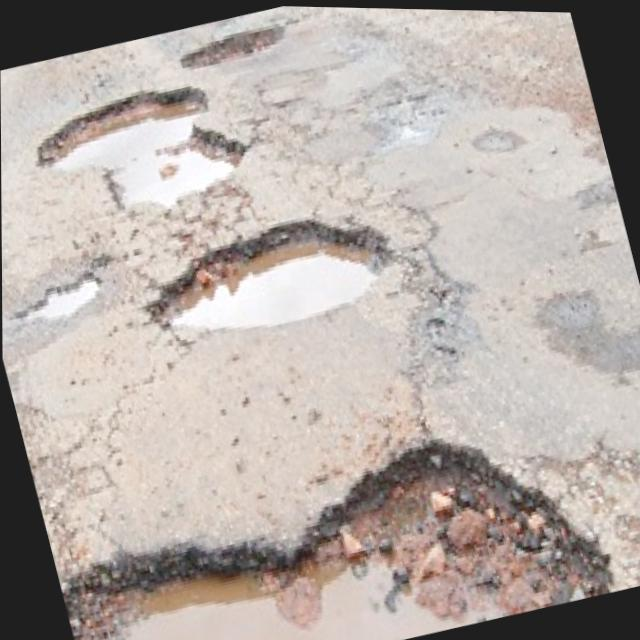Pothole: (59, 441, 609, 640), (152, 214, 389, 330), (39, 83, 243, 207), (19, 266, 102, 324), (181, 24, 280, 67)
